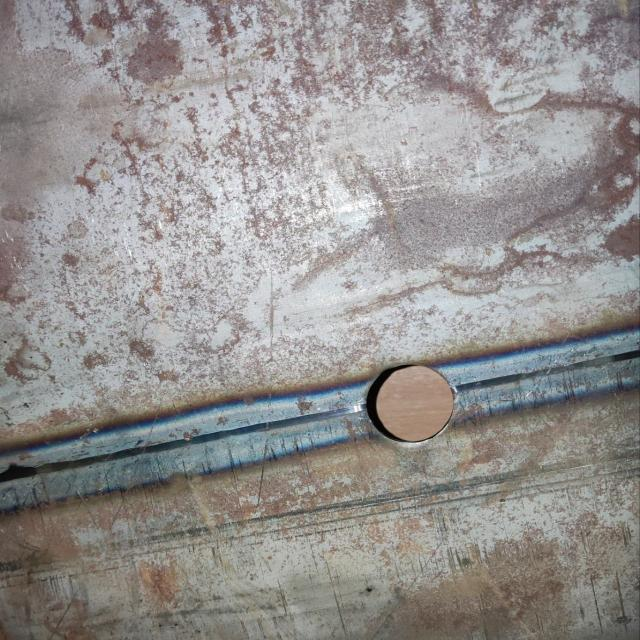seam: (0, 310, 639, 531)
